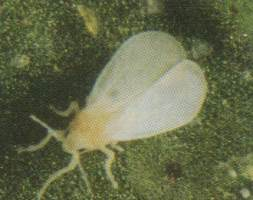whitefly: (18, 29, 207, 200)
